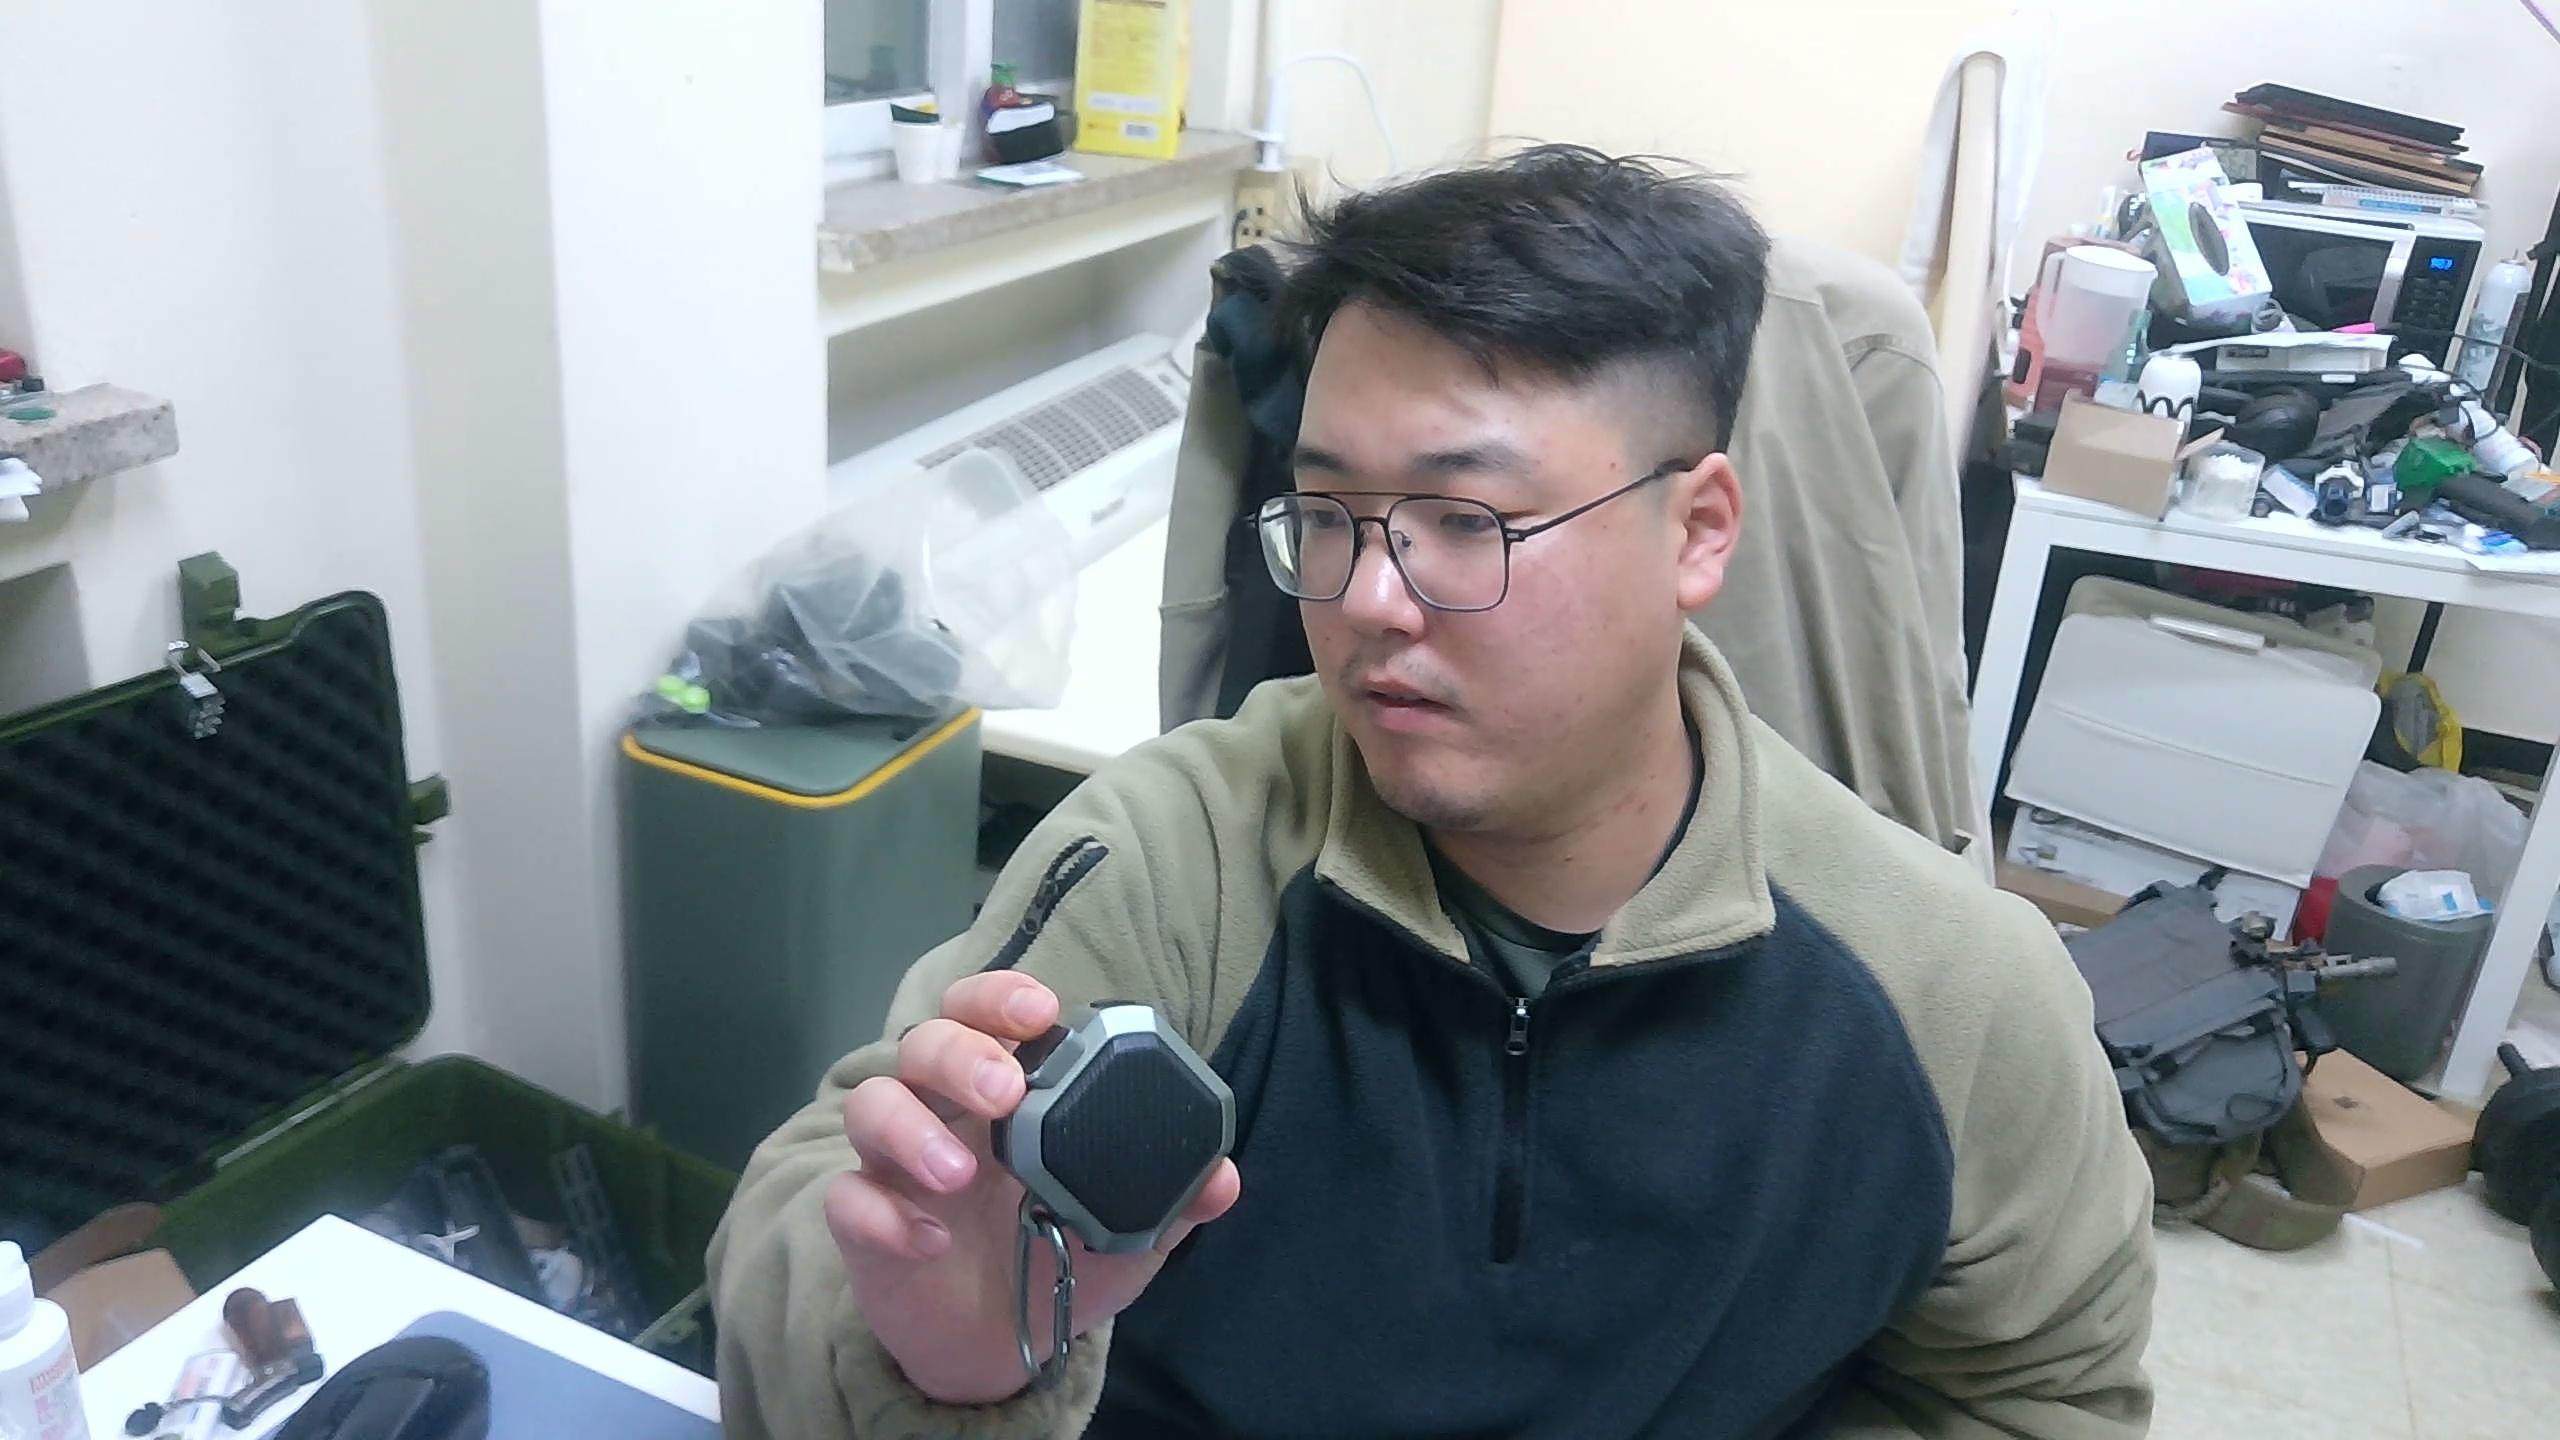blue_pliers: (995, 995, 1243, 1257)
